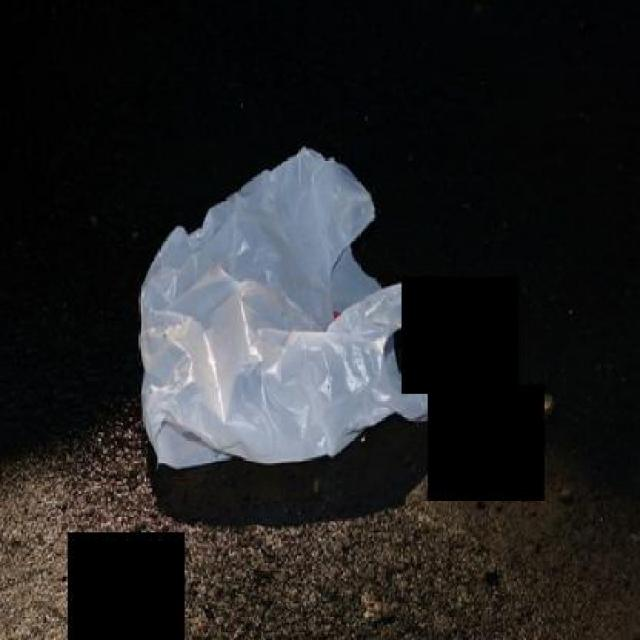plastic bag: (130, 134, 456, 466)
